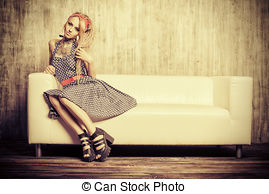face: (56, 16, 86, 39)
